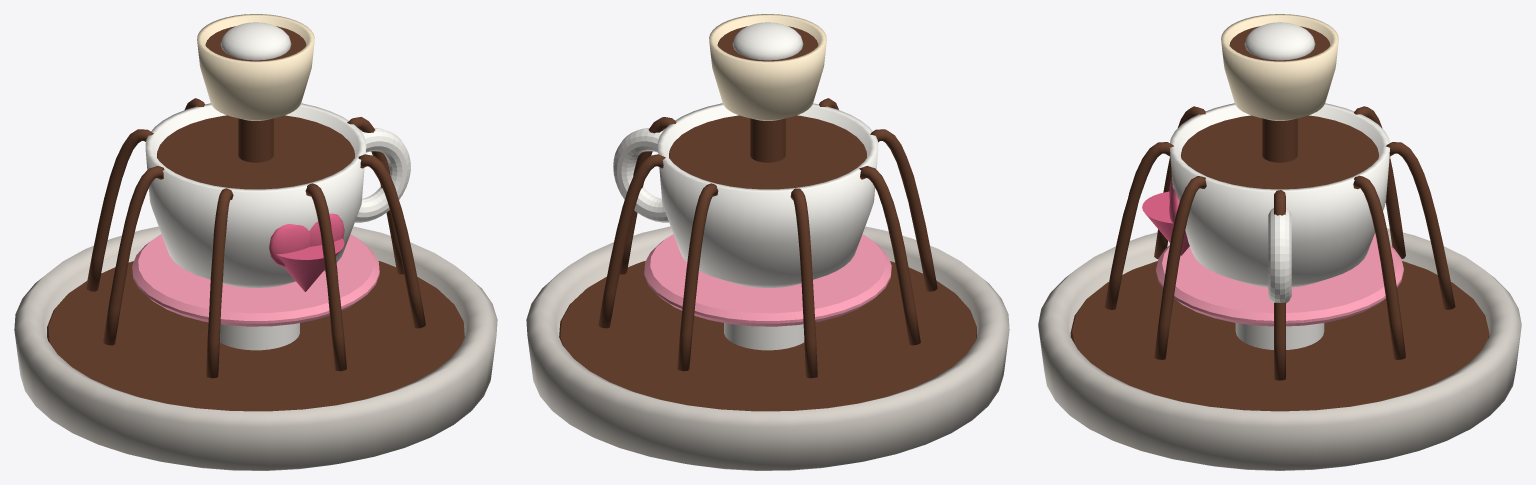
The model's file is coffee_fountain.fbx.
3 renders of one model, left to right at view 1: azimuth 30°, elevation 25°; view 2: azimuth 150°, elevation 25°; view 3: azimuth 270°, elevation 25°, orthographic.
Parts seen in each view (by area): view 1: coffee_fountain_Coffee, coffee_fountain_Stone, coffee_fountain_White, coffee_fountain_Pink, coffee_fountain_Cream, coffee_fountain_PinkDark; view 2: coffee_fountain_Coffee, coffee_fountain_Stone, coffee_fountain_White, coffee_fountain_Pink, coffee_fountain_Cream; view 3: coffee_fountain_Coffee, coffee_fountain_Stone, coffee_fountain_White, coffee_fountain_Pink, coffee_fountain_Cream, coffee_fountain_PinkDark.
Part boxes in pixels (<box>): coffee_fountain_Coffee: <box>47,26,464,411</box>; coffee_fountain_Stone: <box>14,226,497,470</box>; coffee_fountain_White: <box>145,22,410,350</box>; coffee_fountain_Pink: <box>132,234,379,326</box>; coffee_fountain_Cream: <box>197,14,314,120</box>; coffee_fountain_PinkDark: <box>269,213,344,291</box>; coffee_fountain_Coffee: <box>559,26,976,411</box>; coffee_fountain_Stone: <box>526,226,1009,470</box>; coffee_fountain_White: <box>613,22,878,350</box>; coffee_fountain_Pink: <box>644,234,891,326</box>; coffee_fountain_Cream: <box>709,14,826,120</box>; coffee_fountain_Coffee: <box>1070,26,1489,411</box>; coffee_fountain_Stone: <box>1038,228,1521,470</box>; coffee_fountain_White: <box>1170,22,1389,349</box>; coffee_fountain_Pink: <box>1156,234,1403,326</box>; coffee_fountain_Cream: <box>1221,14,1338,120</box>; coffee_fountain_PinkDark: <box>1142,177,1189,255</box>.
Size of the model in its own units: 32.8 by 26.6 by 32.8.
